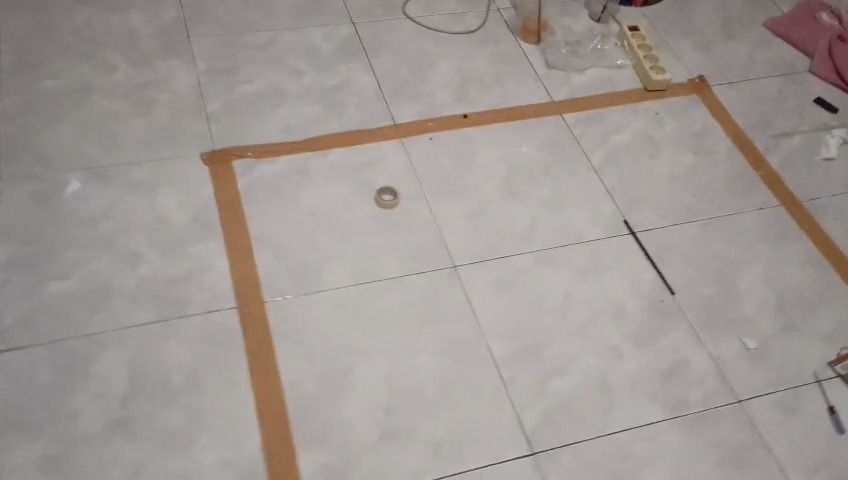floor marking: (201, 75, 847, 479)
